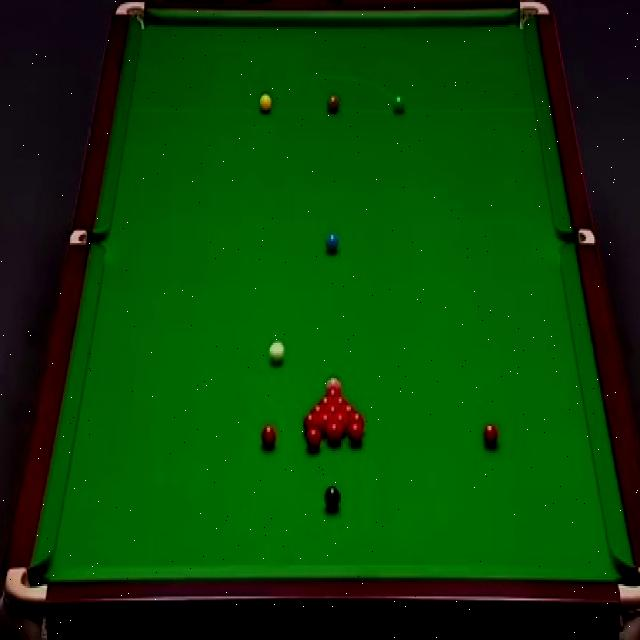black-ball: (325, 486, 339, 509)
blue-ball: (325, 231, 340, 252)
brown-ball: (326, 92, 340, 116)
green-ball: (391, 92, 405, 114)
pink-ball: (326, 377, 344, 390)
red-ball: (260, 420, 278, 450), (483, 423, 499, 447), (307, 428, 322, 450), (342, 404, 356, 427), (350, 411, 364, 432), (327, 424, 341, 444), (303, 414, 318, 432), (334, 415, 347, 435), (319, 414, 332, 433), (350, 424, 361, 444), (310, 405, 326, 414), (326, 407, 342, 413)
white-ball: (270, 339, 285, 367)
yellow-ball: (260, 94, 272, 114)
